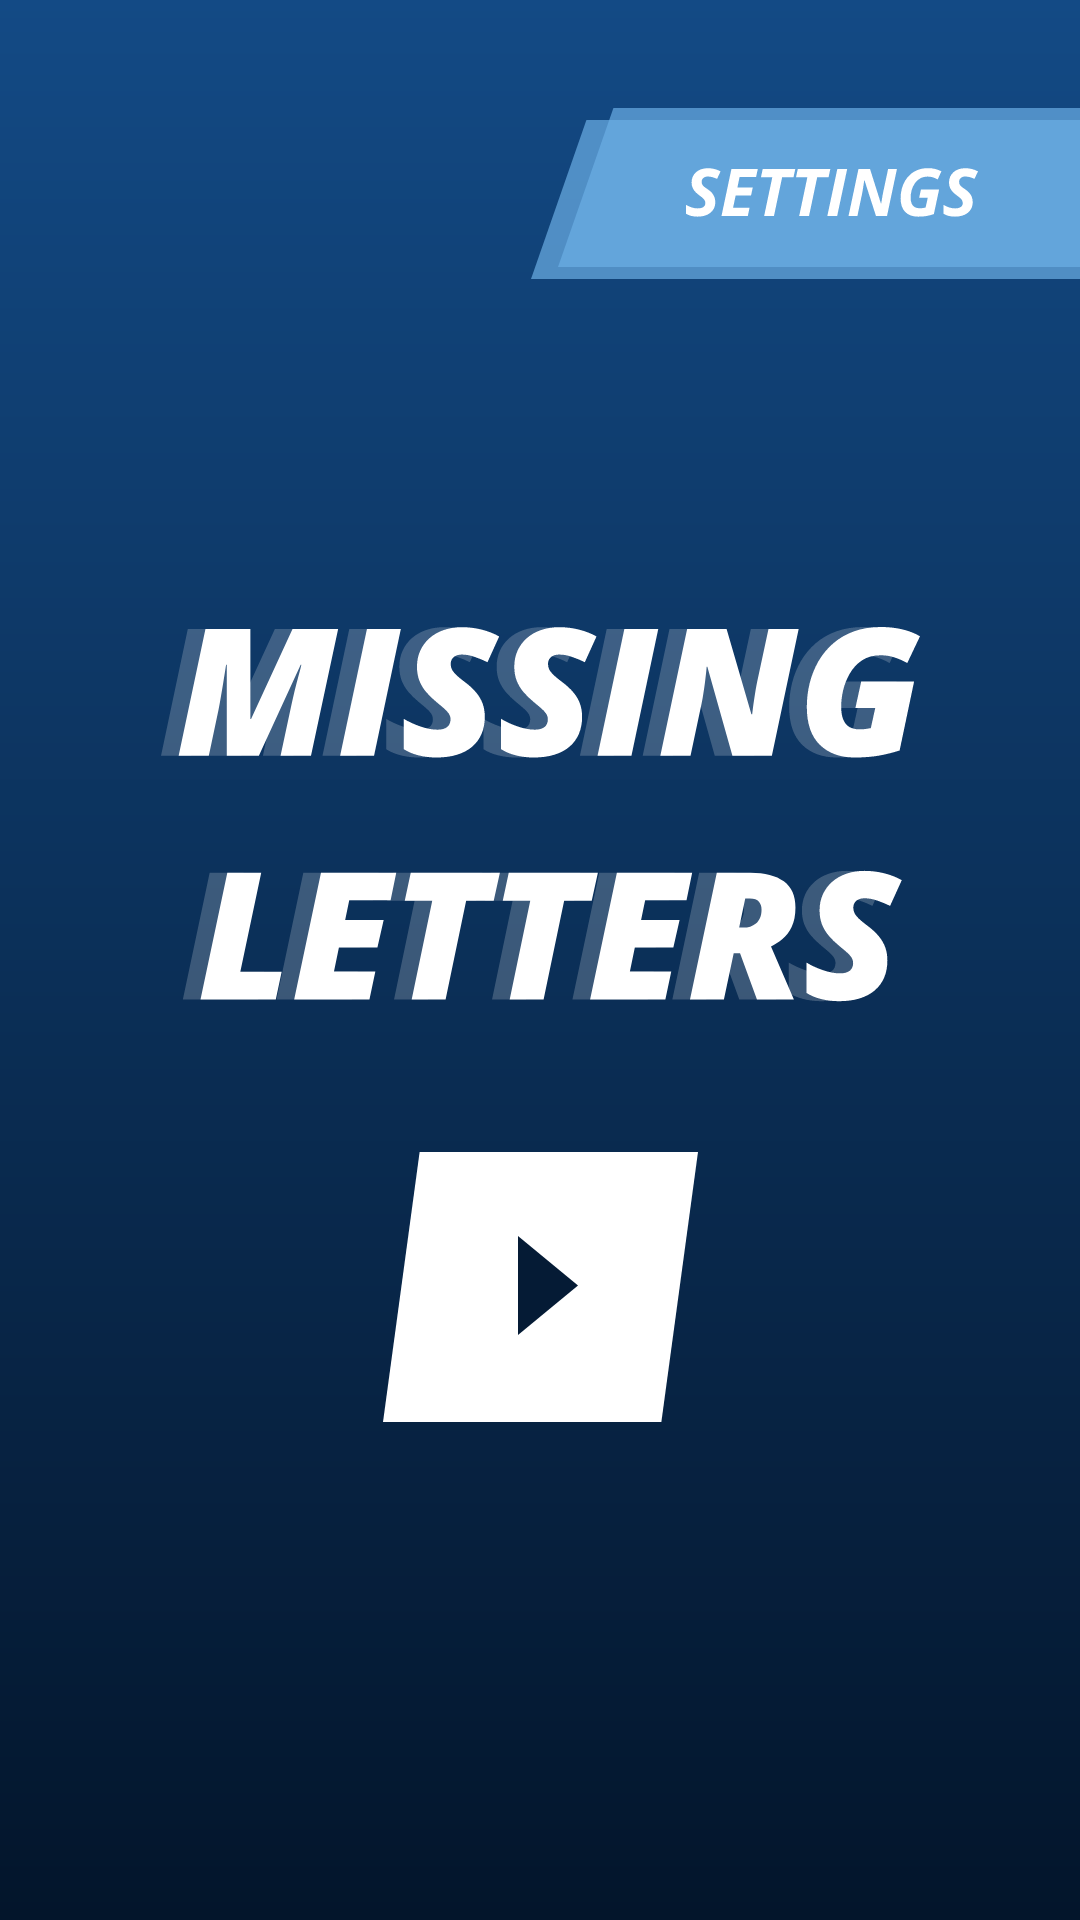

Where to tap for icons on this 1080*1920 app screen, as point (x, y):
start: point (540, 1287)
